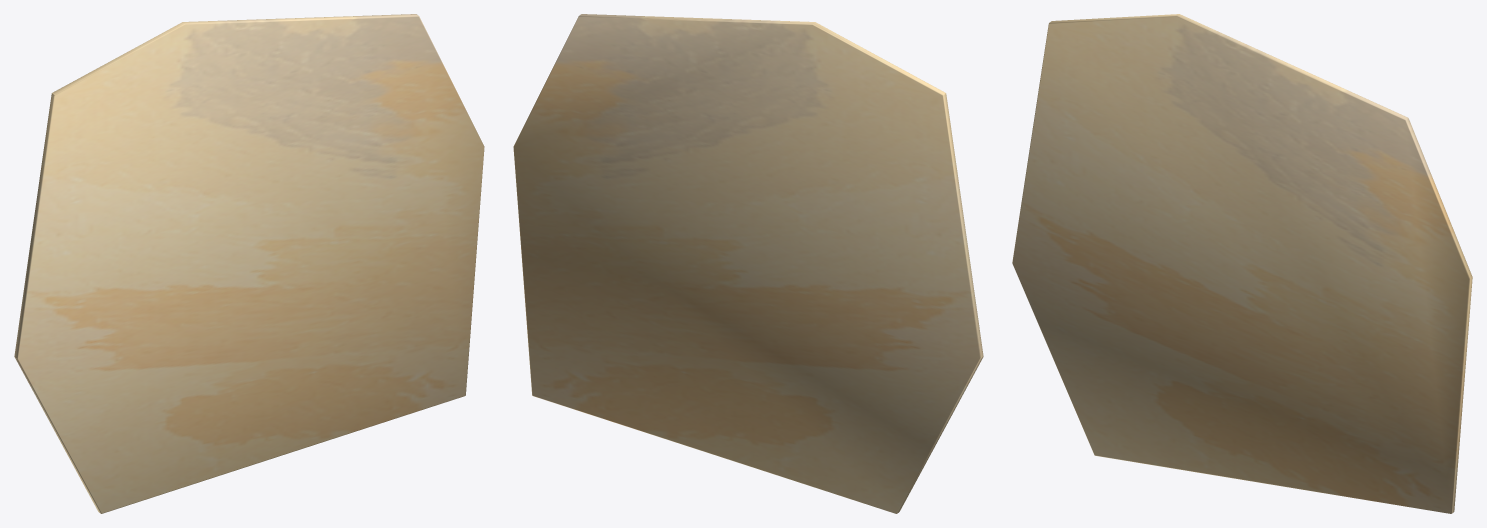
Rendered from CM_HR02_LimeRepair.fbx.
3 views of the same model, side by side, from view 1: azimuth 30°, elevation 25°; view 2: azimuth 150°, elevation 25°; view 3: azimuth 330°, elevation 25° (orthographic). The views are drawn at different scales.
Parts seen in each view (by area): view 1: CM_HR02_LimeRepair; view 2: CM_HR02_LimeRepair; view 3: CM_HR02_LimeRepair.
Boxes of the visible parts, <box> form: CM_HR02_LimeRepair: <box>14,14,484,513</box>; CM_HR02_LimeRepair: <box>513,14,983,513</box>; CM_HR02_LimeRepair: <box>1012,14,1472,513</box>.
Size of the model in its own units: 0.4999 by 0.4799 by 0.006.
